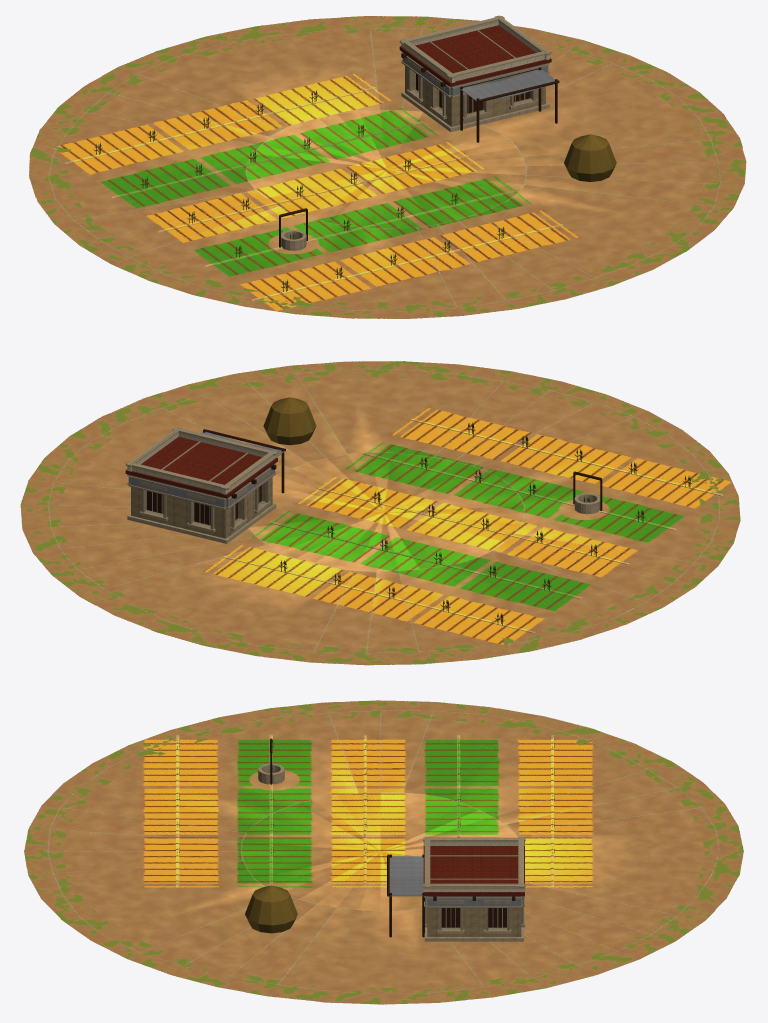
The model's file is farm-bronze.glb.
3 views of the same model, one above another, from view 1: azimuth 30°, elevation 25°; view 2: azimuth 150°, elevation 25°; view 3: azimuth 270°, elevation 25° (orthographic).
Visible parts, largest first — view 1: LOD0; view 2: LOD0; view 3: LOD0.
Part boxes in pixels (left/top/right/bottom): LOD0: left=29, top=15, right=746, bottom=318; LOD0: left=20, top=361, right=740, bottom=665; LOD0: left=24, top=700, right=743, bottom=1004.
Size of what is drawn, in the model's own units: 4.74 by 0.3939 by 4.74.
Materials: 3 (3 with a texture image).
